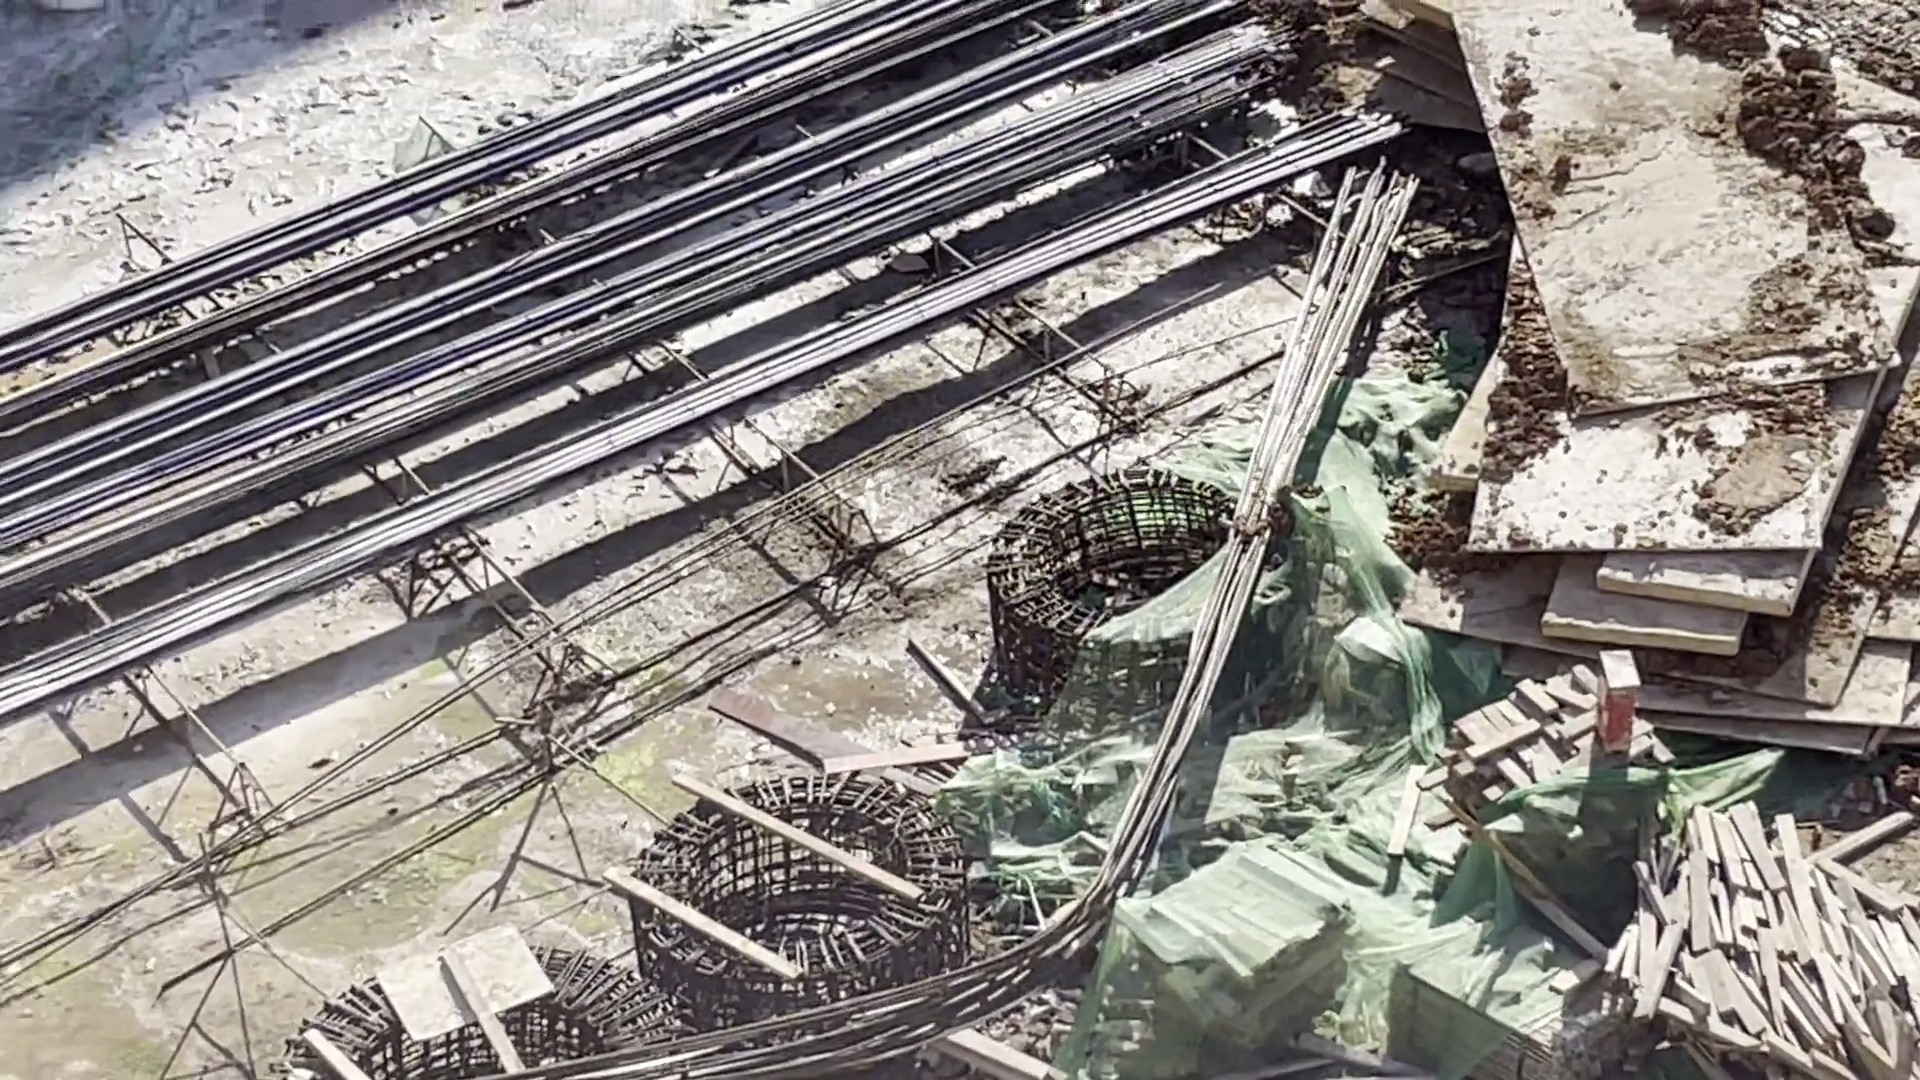board: (1408, 1, 1920, 719)
rebar: (1, 1, 1400, 692)
wood: (1636, 806, 1920, 1080), (1399, 924, 1625, 1080)
